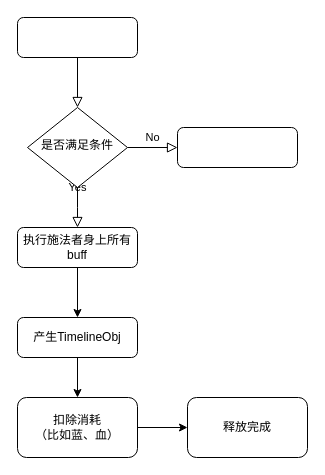
The diagram is 325 pixels wide and 475 high, and some of its shapes have lost their labels. Each missing label, with the centre of its shape:
准备释放技能: (x=77, y=37)
终止释放失败: (x=237, y=147)
